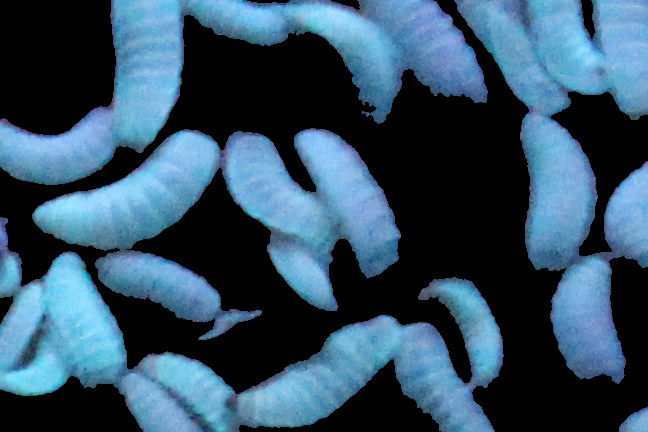larvae: (33, 131, 232, 246), (225, 314, 402, 432), (294, 124, 404, 273), (444, 1, 578, 117), (367, 1, 492, 121), (512, 108, 598, 278), (221, 126, 337, 251), (292, 1, 404, 121), (105, 1, 192, 149), (42, 256, 126, 401), (397, 320, 496, 432), (553, 255, 631, 382), (95, 254, 224, 326), (1, 103, 114, 184), (134, 349, 243, 432), (426, 276, 506, 388), (526, 1, 614, 98), (591, 1, 648, 119), (113, 370, 205, 432), (182, 1, 295, 50), (268, 231, 335, 310), (1, 278, 48, 390), (7, 331, 74, 400), (604, 158, 648, 263)
